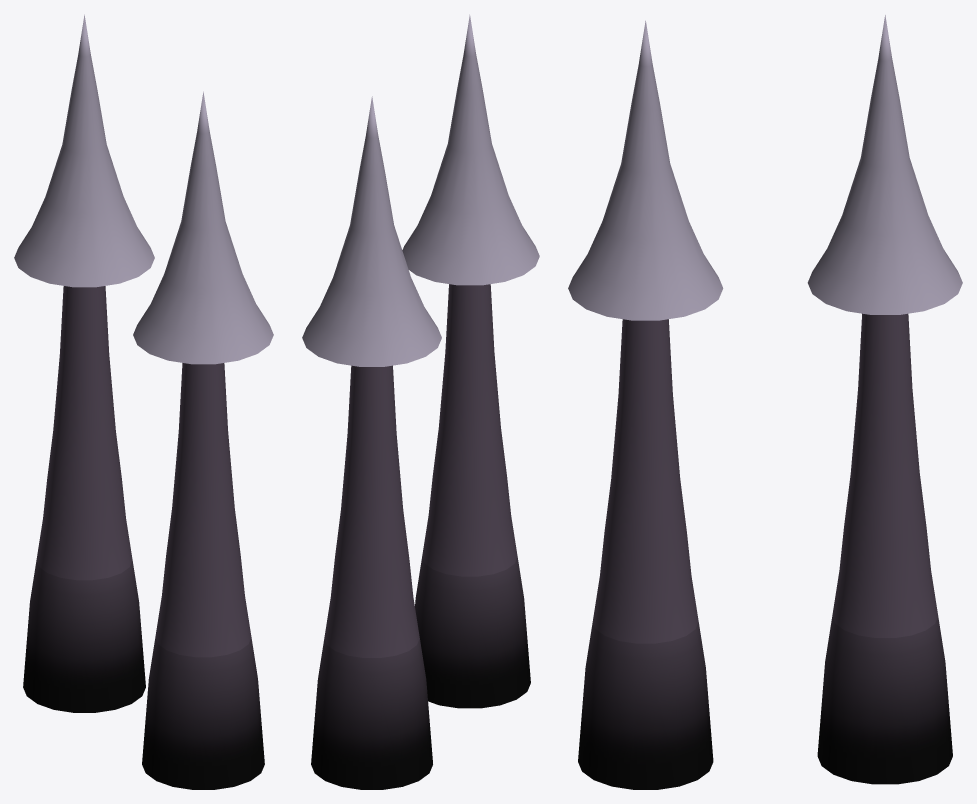
The model's file is CA_176_trap_spears.glb.
3 renders of one model, left to right at view 1: azimuth 30°, elevation 25°; view 2: azimuth 150°, elevation 25°; view 3: azimuth 270°, elevation 25°, orthographic. The views are drawn at different scales.
Parts seen in each view (by area): view 1: spear_2, spear_1; view 2: spear_2, spear_1; view 3: spear_2, spear_1.
Boxes of the visible parts, x1,y1,x2,y2 form: spear_2: [14, 14, 154, 712]; spear_1: [133, 91, 273, 789]; spear_2: [302, 96, 441, 789]; spear_1: [402, 14, 539, 708]; spear_2: [807, 15, 962, 784]; spear_1: [568, 20, 723, 789].
Size of the model in its own units: 0.416 by 2.05 by 0.9897.
3 materials, 1 textured.
